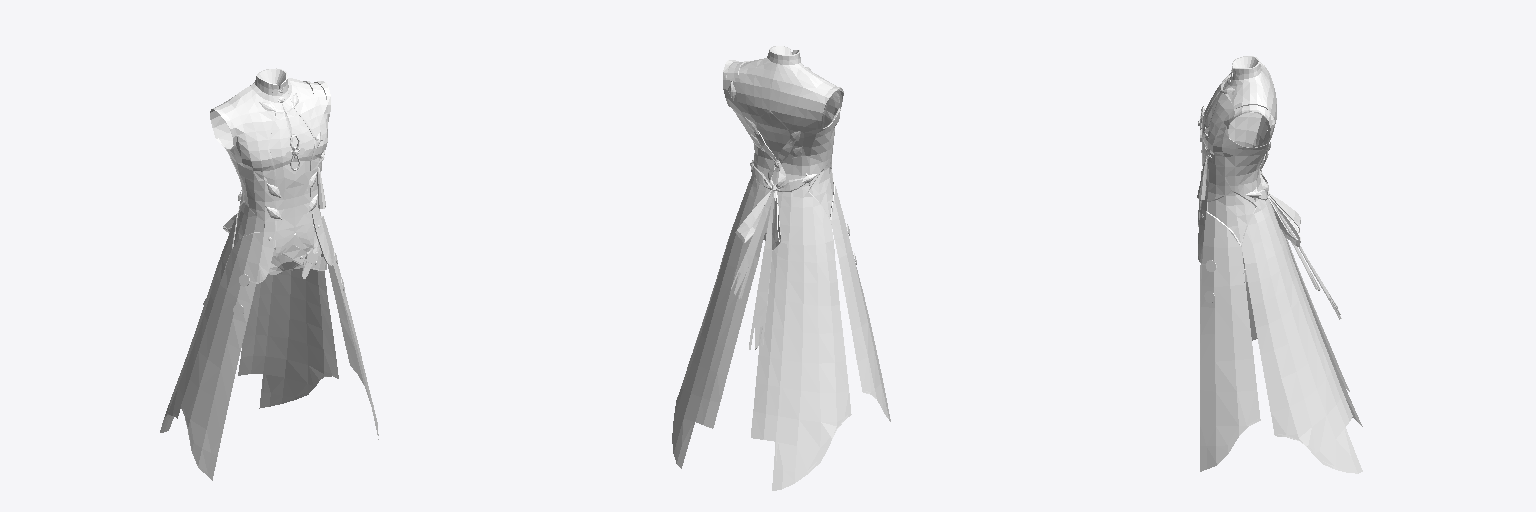
Rendered from BladeCuerpo_StarRail.obj.
The picture shows the model from 3 angles: view 1: azimuth 30°, elevation 25°; view 2: azimuth 150°, elevation 25°; view 3: azimuth 270°, elevation 25°; orthographic projection.
Parts seen in each view (by area): view 1: Cuerpo; view 2: Cuerpo; view 3: Cuerpo.
Part boxes in pixels (bbox=[...]): Cuerpo: bbox=[160, 68, 378, 480]; Cuerpo: bbox=[672, 46, 890, 490]; Cuerpo: bbox=[1197, 56, 1362, 473].
Size of the model in its own units: 3.29 by 6.75 by 2.62.